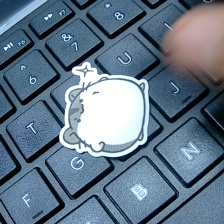mouse: (60, 62, 154, 158)
